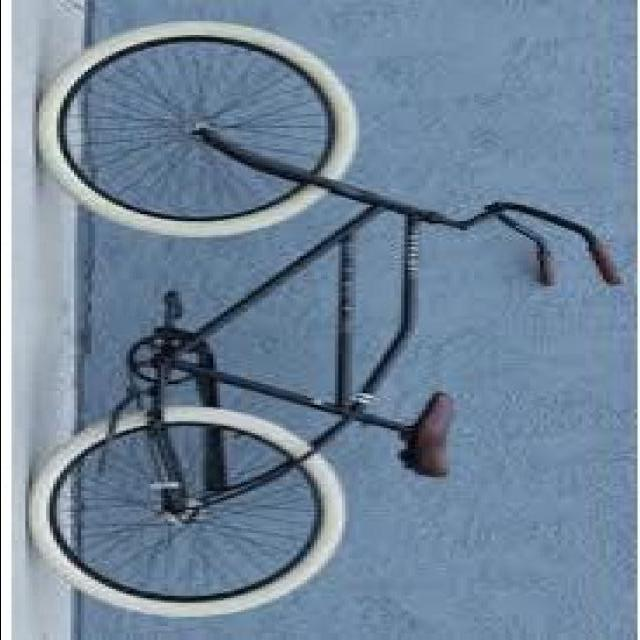bicycle: (33, 17, 603, 597)
